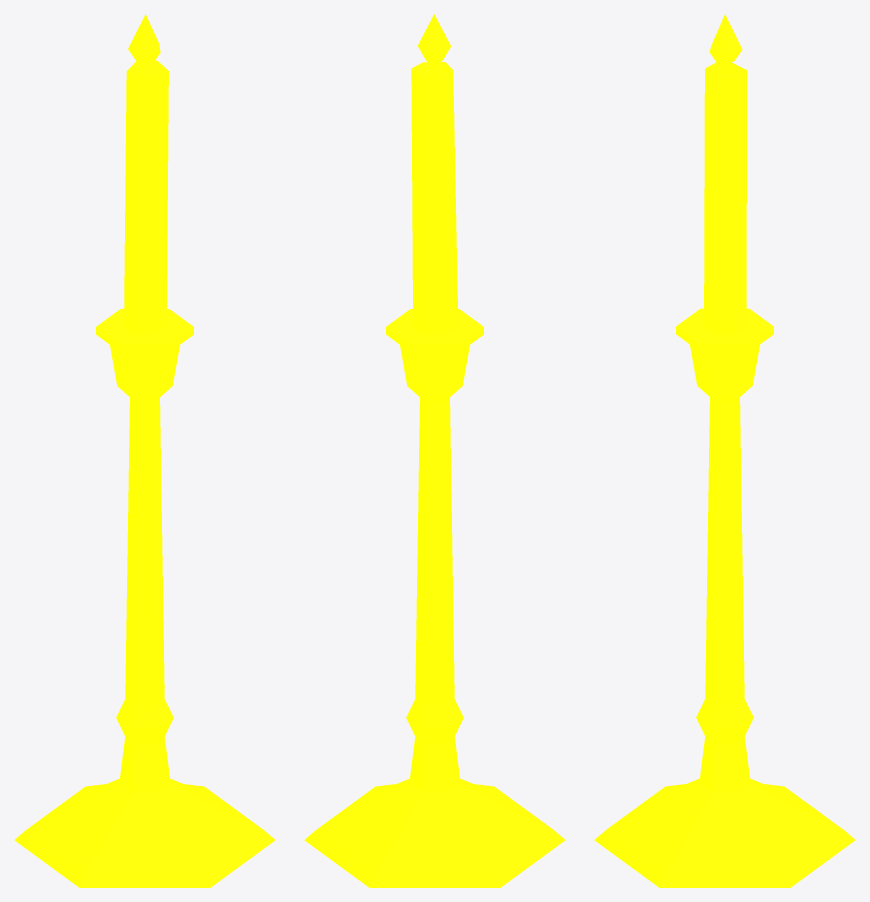
The model's file is candle-holder-tall-a-lit-christmas.glb.
3 views of the same model, side by side, from view 1: azimuth 30°, elevation 25°; view 2: azimuth 150°, elevation 25°; view 3: azimuth 270°, elevation 25° (orthographic).
Visible parts, largest first — view 1: candle_holder_tall_a_lit_christmas; view 2: candle_holder_tall_a_lit_christmas; view 3: candle_holder_tall_a_lit_christmas.
Part boxes in pixels (x1=…): candle_holder_tall_a_lit_christmas: x1=14, y1=14, x2=275, y2=887; candle_holder_tall_a_lit_christmas: x1=304, y1=14, x2=565, y2=887; candle_holder_tall_a_lit_christmas: x1=594, y1=14, x2=855, y2=887.
Bounding box in the file's own units: 0.1644 × 0.6613 × 0.1898.
Materials: 2 (2 with a texture image).
